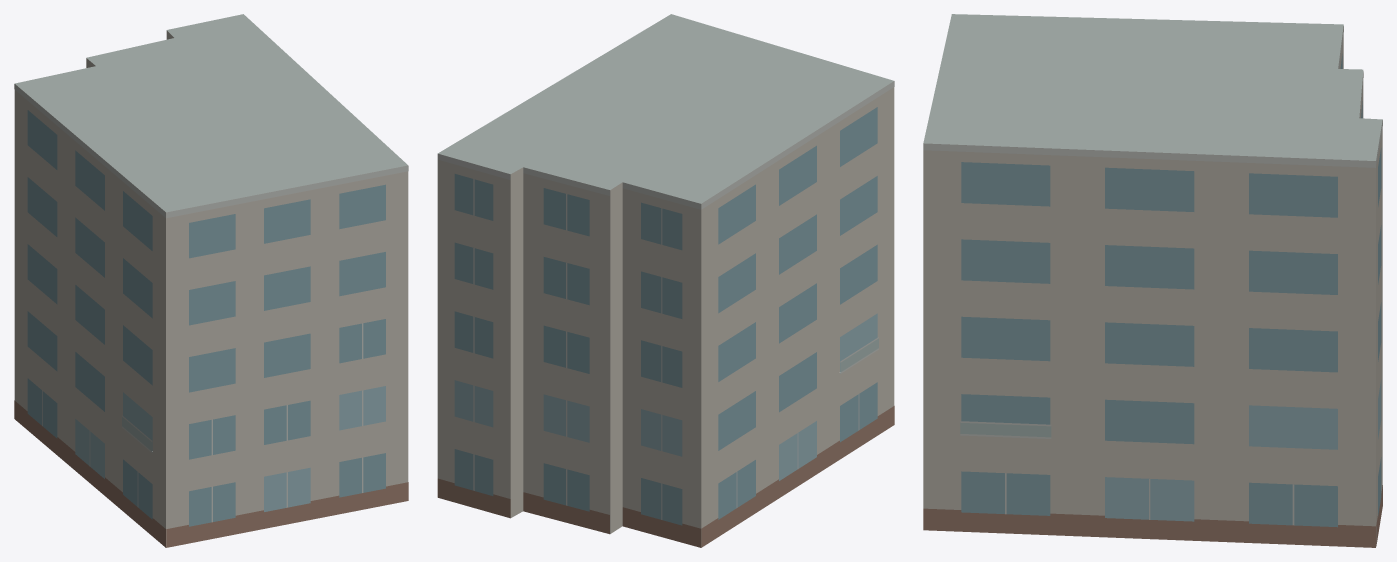
File: survey-upis-32767008.glb
3 views of the same model, side by side, from view 1: azimuth 30°, elevation 25°; view 2: azimuth 150°, elevation 25°; view 3: azimuth 270°, elevation 25° (orthographic). The views are drawn at different scales.
Parts seen in each view (by area): view 1: survey-upis-32767008.tmp; view 2: survey-upis-32767008.tmp; view 3: survey-upis-32767008.tmp.
Boxes of the visible parts, left/top/right/bottom form: survey-upis-32767008.tmp: left=14, top=14, right=408, bottom=547; survey-upis-32767008.tmp: left=437, top=14, right=894, bottom=547; survey-upis-32767008.tmp: left=923, top=14, right=1382, bottom=547.
Bounding box in the file's own units: 11.43 × 14 × 15.08.
